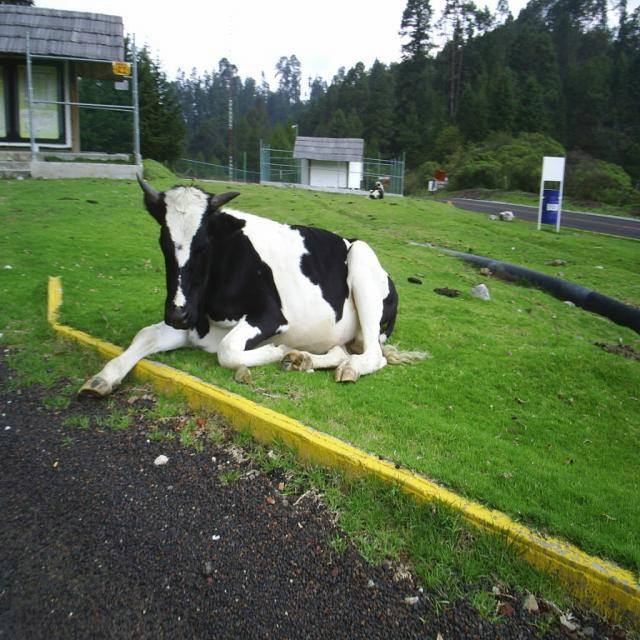cow: (81, 179, 416, 395)
